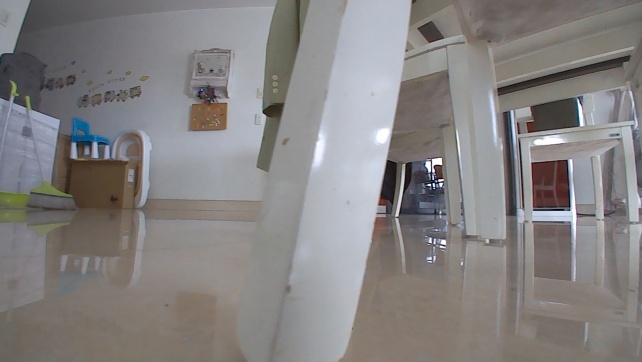dining_table1: (226, 0, 641, 361)
